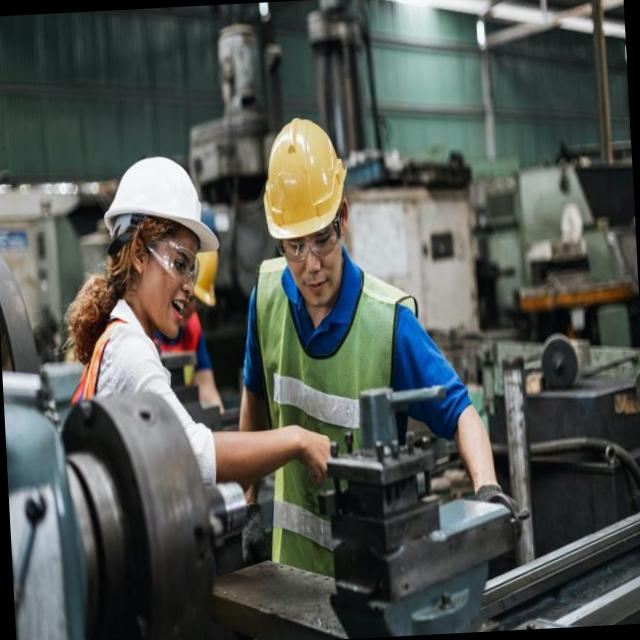Helmet: (107, 146, 219, 258), (260, 110, 353, 243)
Vest: (230, 244, 428, 577)
